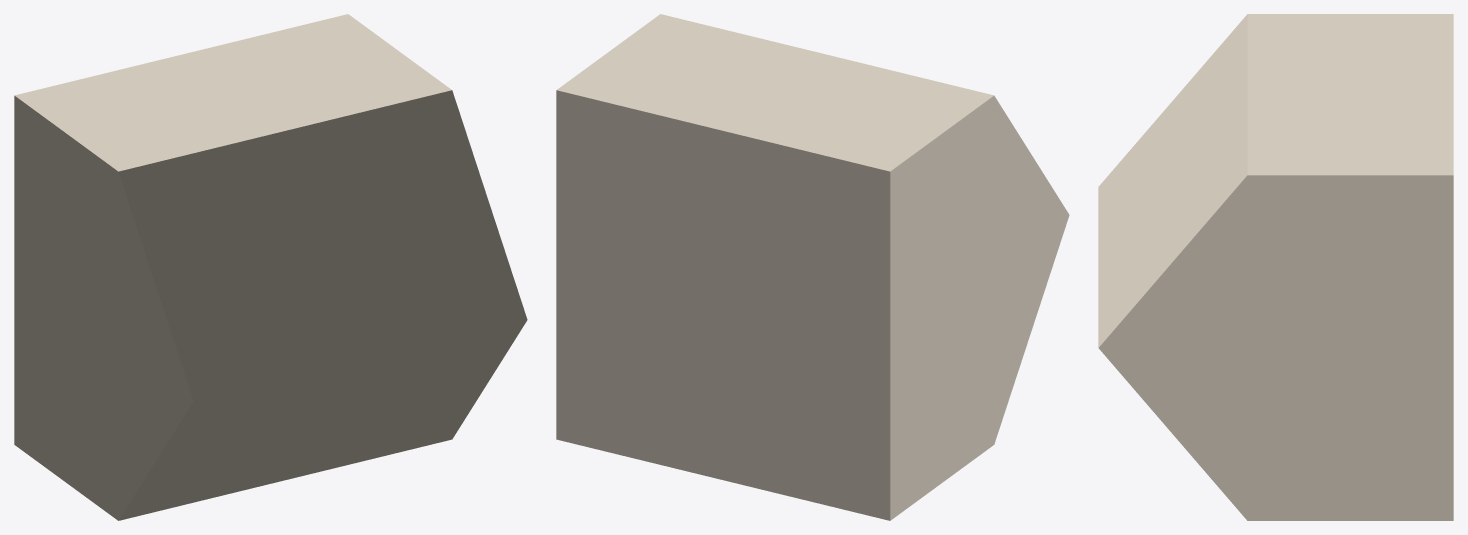
File: maison_guion.obj
3 views of the same model, side by side, from view 1: azimuth 30°, elevation 25°; view 2: azimuth 150°, elevation 25°; view 3: azimuth 270°, elevation 25° (orthographic).
Size of the model in its own units: 10 by 10 by 9.31.
